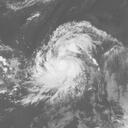cyclone: (26, 20, 95, 98)
